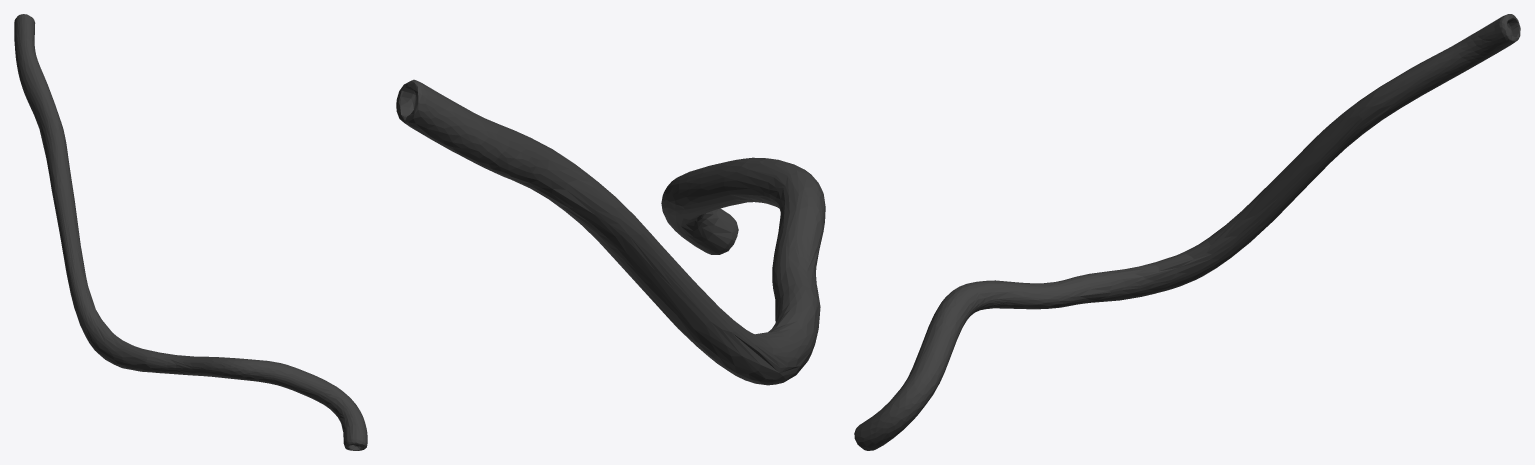
The model's file is Bile_duct.glb.
The picture shows the model from 3 angles, left to right: view 1: azimuth 30°, elevation 25°; view 2: azimuth 150°, elevation 25°; view 3: azimuth 270°, elevation 25°; orthographic projection. The views are drawn at different scales.
Visible parts, largest first — view 1: Bile_duct; view 2: Bile_duct; view 3: Bile_duct.
Boxes of the visible parts, x1,y1,x2,y2 form: Bile_duct: (14,14,367,450); Bile_duct: (396,79,825,385); Bile_duct: (854,14,1520,450).
Size of the model in its own units: 0.5794 by 0.9521 by 1.53.
Materials: 1 (1 with a texture image).
